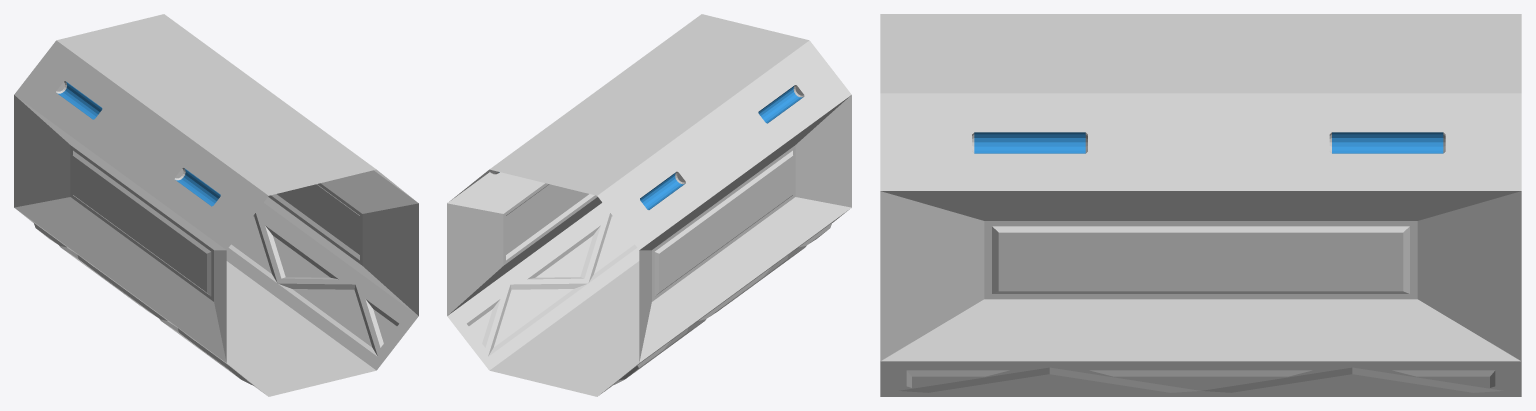
Rendered from Corridor.fbx.
3 views of the same model, side by side, from view 1: azimuth 30°, elevation 25°; view 2: azimuth 150°, elevation 25°; view 3: azimuth 270°, elevation 25° (orthographic). The views are drawn at different scales.
Visible parts, largest first — view 1: Cube; view 2: Cube; view 3: Cube.
Part boxes in pixels (left/top/right/bottom): Cube: left=14, top=14, right=418, bottom=396; Cube: left=447, top=14, right=851, bottom=396; Cube: left=880, top=14, right=1521, bottom=396.
Size of the model in its own units: 600 by 600 by 1149.
